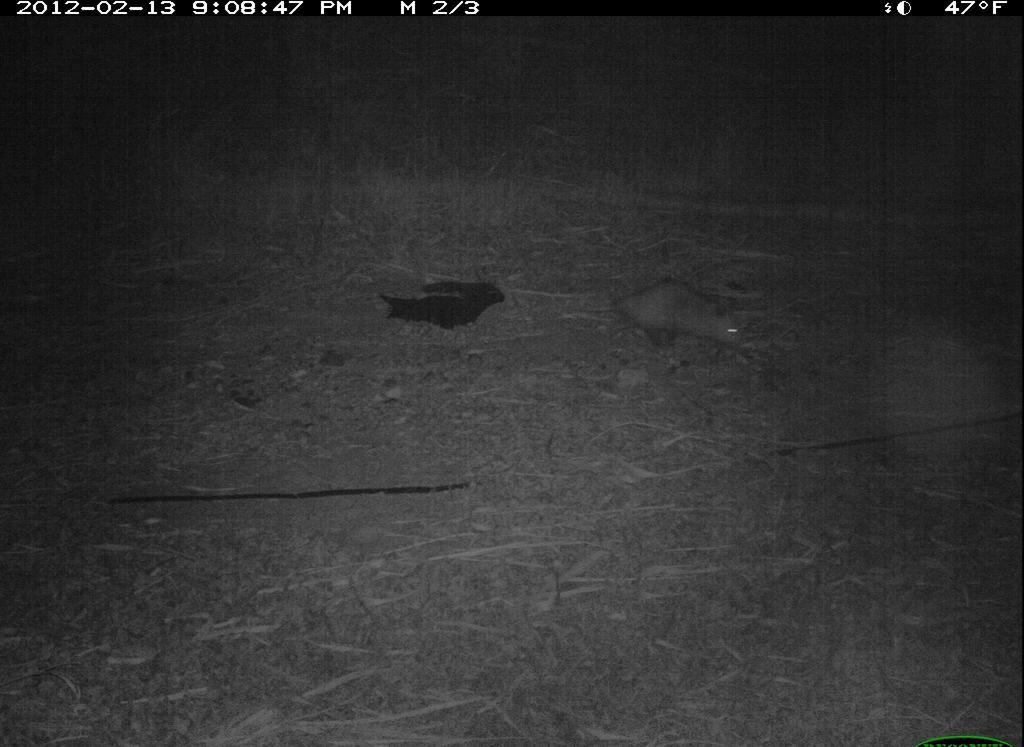opossum: (593, 267, 760, 369)
